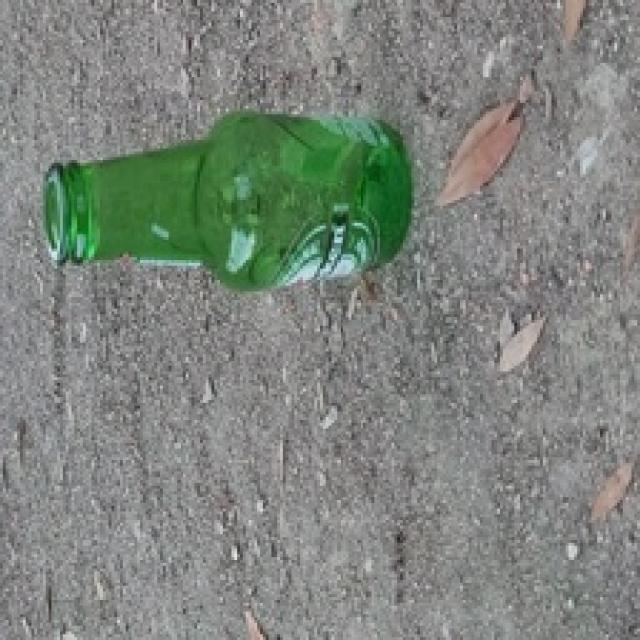Glass: (38, 106, 413, 288)
